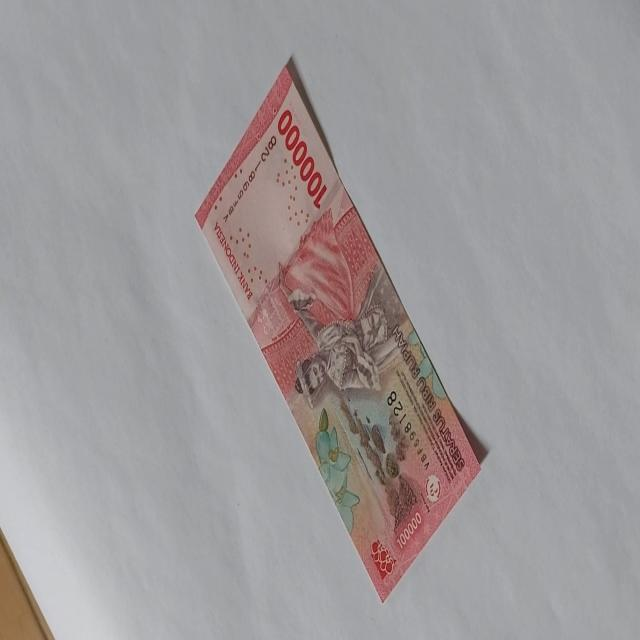seratus ribu rupiah: (193, 60, 482, 602)
